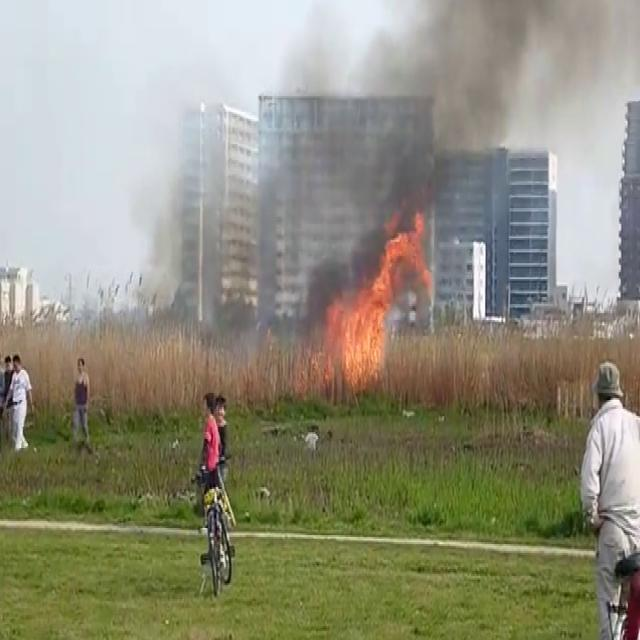Fire: (314, 212, 436, 388)
Smoke: (155, 0, 635, 344)
